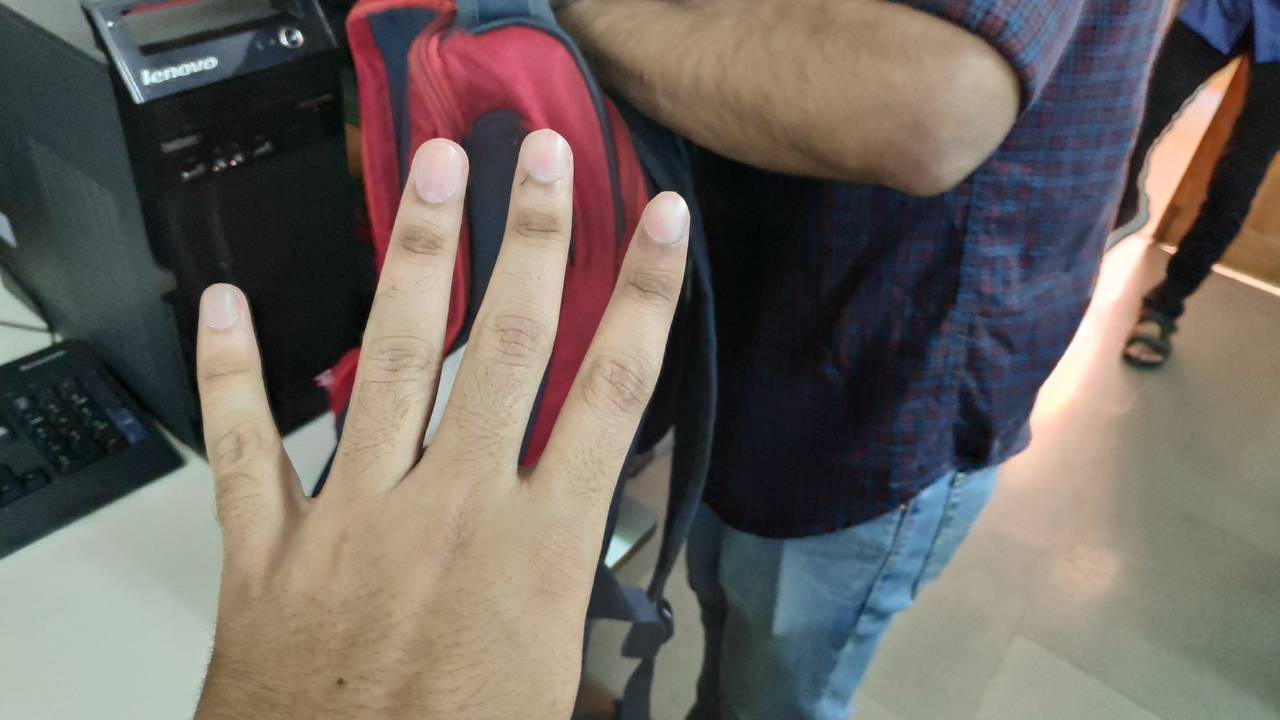fingertip: (390, 130, 468, 210), (180, 276, 254, 352), (626, 178, 696, 252), (510, 127, 578, 192)
